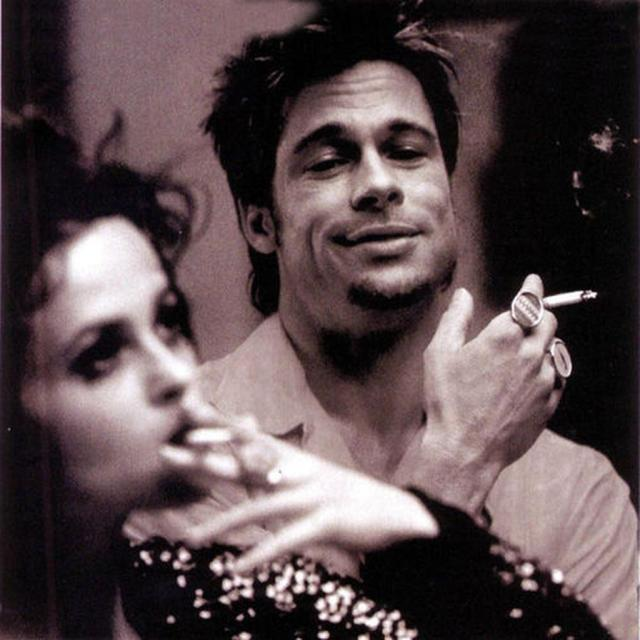smoking: (221, 11, 609, 354), (53, 366, 283, 507)
